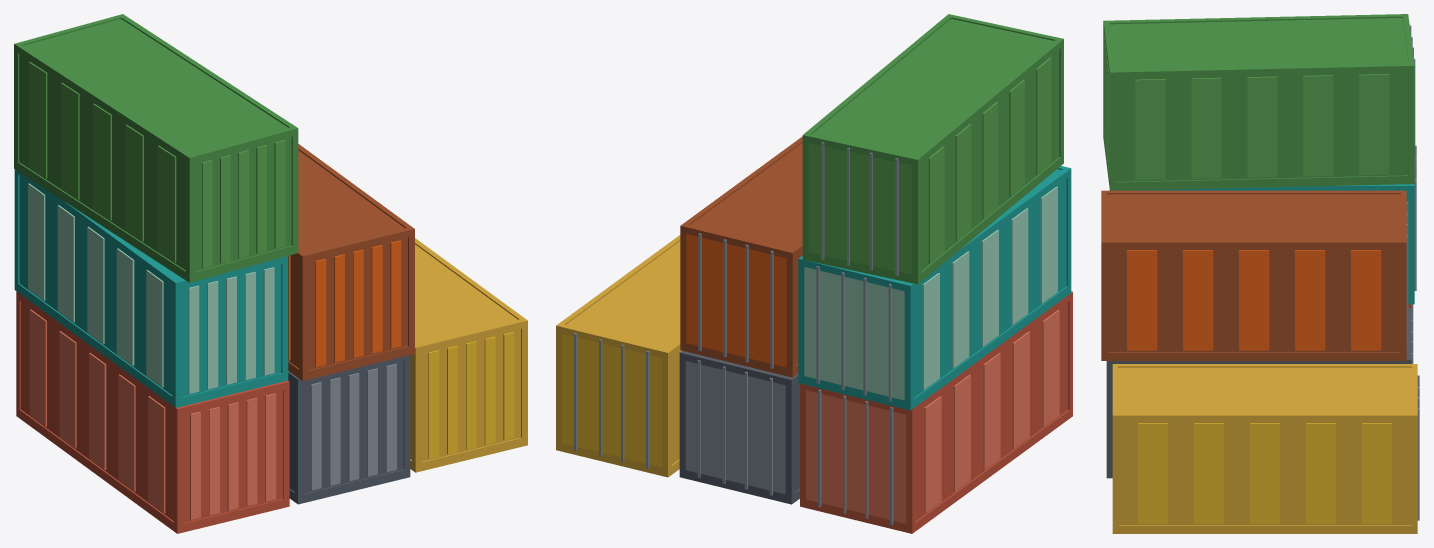
File: cargo_stack.glb
3 renders of one model, left to right at view 1: azimuth 30°, elevation 25°; view 2: azimuth 150°, elevation 25°; view 3: azimuth 270°, elevation 25°, orthographic. The views are drawn at different scales.
Parts seen in each view (by area): view 1: Stack; view 2: Stack; view 3: Stack.
Part boxes in pixels (box(x1,y1,x2,y2)): Stack: box(14, 14, 527, 533); Stack: box(556, 14, 1072, 533); Stack: box(1101, 14, 1419, 533).
Bounding box in the file's own units: 7.77 × 7.77 × 6.31.
